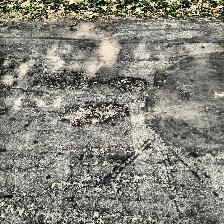pothole: (58, 100, 130, 125), (43, 70, 92, 90), (110, 74, 146, 92)
